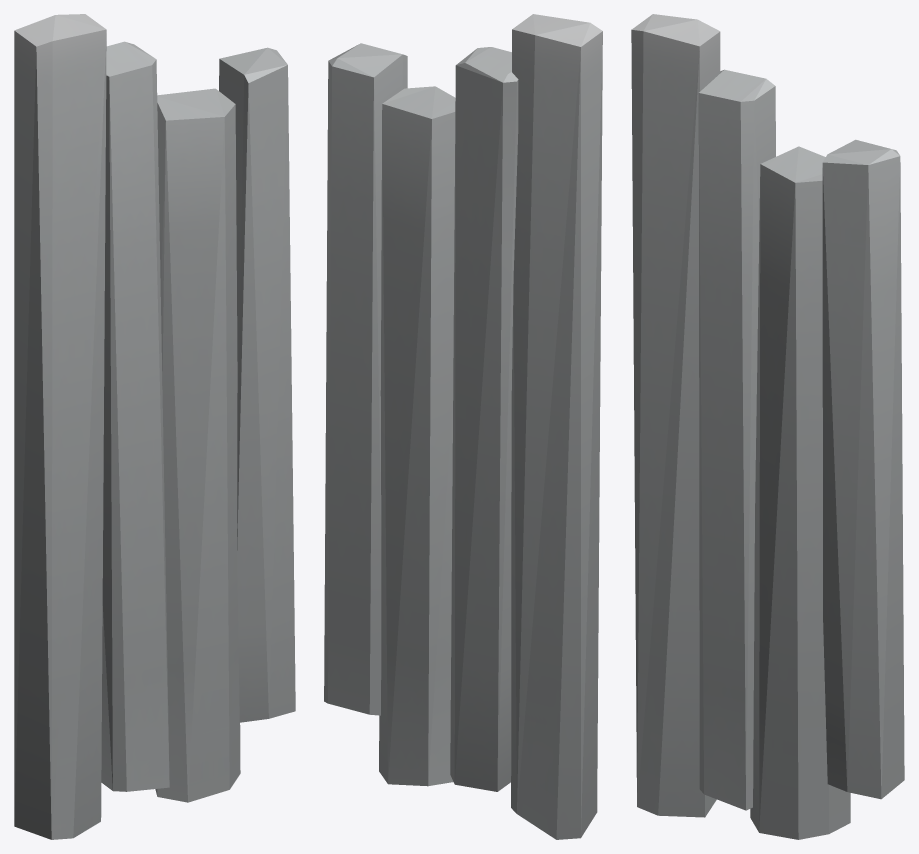
The model's file is rock_10m_1.fbx.
The picture shows the model from 3 angles, left to right: view 1: azimuth 30°, elevation 25°; view 2: azimuth 150°, elevation 25°; view 3: azimuth 330°, elevation 25°; orthographic projection. The views are drawn at different scales.
Visible parts, largest first — view 1: rock_10m_1; view 2: rock_10m_1; view 3: rock_10m_1.
Boxes of the visible parts, x1,y1,x2,y2 form: rock_10m_1: (14, 14, 295, 839); rock_10m_1: (324, 14, 602, 839); rock_10m_1: (631, 14, 904, 839).
Bounding box in the file's own units: 3.5 × 10.33 × 1.
